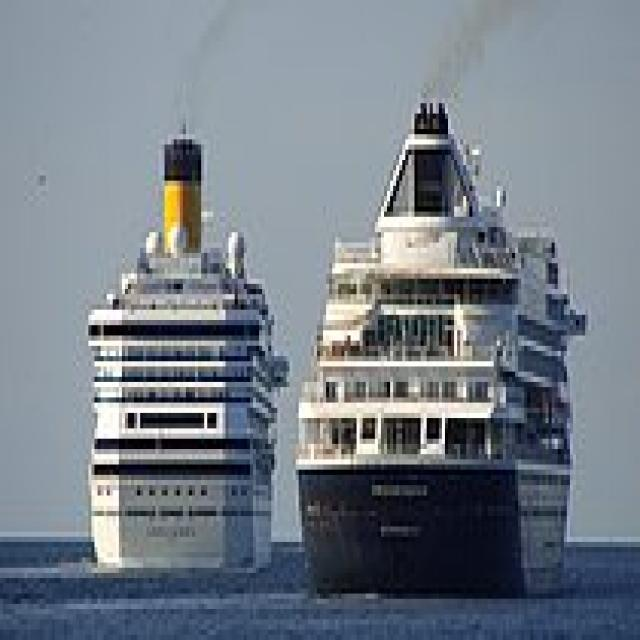Ship: (282, 79, 605, 616), (68, 94, 297, 590)
